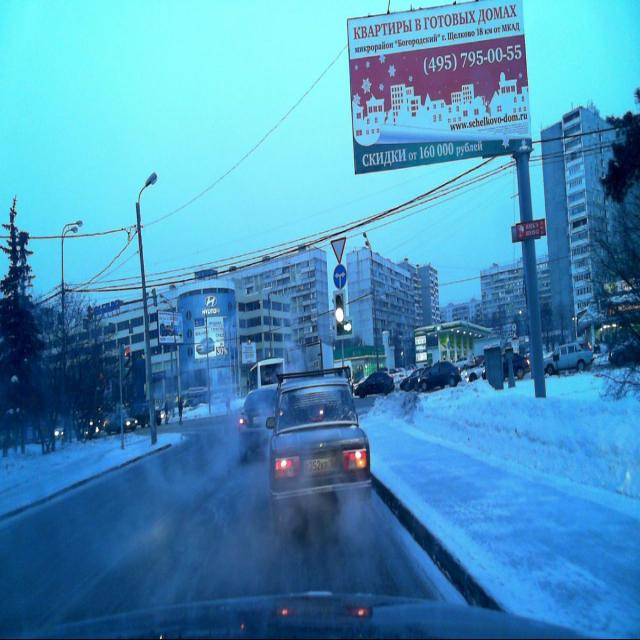road sign: (330, 235, 346, 265)
